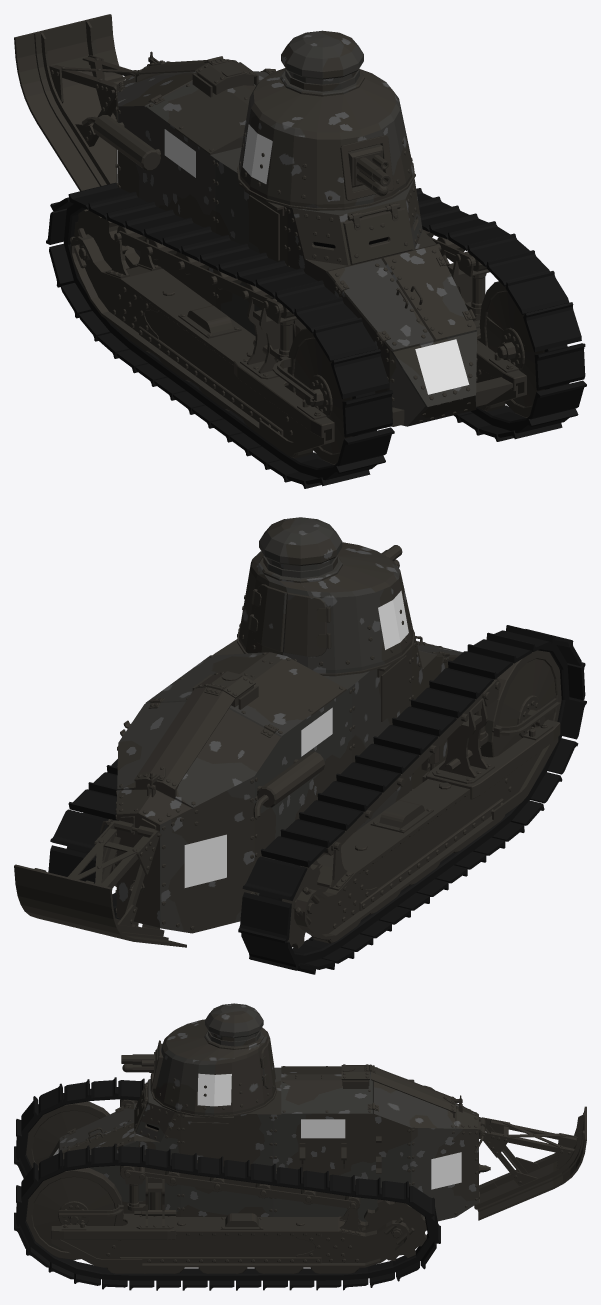
Rendered from Veh_FT-17_01.fbx.
3 views of the same model, one above another, from view 1: azimuth 30°, elevation 25°; view 2: azimuth 150°, elevation 25°; view 3: azimuth 270°, elevation 25° (orthographic). The views are drawn at different scales.
Parts seen in each view (by area): view 1: Veh_FT-17_01_LOD0, Veh_FT-17_Caterpillar_R_LOD0, Veh_FT-17_Tower_LOD0, Veh_FT-17_Caterpillar_L_LOD0, Veh_FT-17_Wheel_L_01_LOD0, Veh_FT-17_Wheel_R_01_LOD0, Veh_FT-17_Decal_01_LOD0, Veh_FT-17_Cannon_LOD0, Veh_FT-17_Wheel_R_11_LOD0, Veh_FT-17_Decal_02_LOD0; view 2: Veh_FT-17_01_LOD0, Veh_FT-17_Caterpillar_R_LOD0, Veh_FT-17_Tower_LOD0, Veh_FT-17_Wheel_R_01_LOD0, Veh_FT-17_Caterpillar_L_LOD0, Veh_FT-17_Decal_01_LOD0, Veh_FT-17_Decal_02_LOD0, Veh_FT-17_Wheel_R_11_LOD0; view 3: Veh_FT-17_01_LOD0, Veh_FT-17_Caterpillar_L_LOD0, Veh_FT-17_Tower_LOD0, Veh_FT-17_Wheel_L_01_LOD0, Veh_FT-17_Caterpillar_R_LOD0, Veh_FT-17_Wheel_R_01_LOD0, Veh_FT-17_Wheel_L_11_LOD0, Veh_FT-17_Decal_01_LOD0, Veh_FT-17_Decal_02_LOD0, Veh_FT-17_Cannon_LOD0.
Boxes of the visible parts, box(x1,y1,x2,y2) form: Veh_FT-17_01_LOD0: box(14, 14, 526, 456); Veh_FT-17_Caterpillar_R_LOD0: box(46, 182, 394, 488); Veh_FT-17_Tower_LOD0: box(239, 30, 413, 208); Veh_FT-17_Caterpillar_L_LOD0: box(416, 188, 586, 441); Veh_FT-17_Wheel_L_01_LOD0: box(479, 281, 544, 417); Veh_FT-17_Wheel_R_01_LOD0: box(287, 328, 352, 464); Veh_FT-17_Decal_01_LOD0: box(117, 129, 469, 394); Veh_FT-17_Cannon_LOD0: box(348, 144, 390, 196); Veh_FT-17_Wheel_R_11_LOD0: box(74, 209, 129, 269); Veh_FT-17_Decal_02_LOD0: box(242, 124, 272, 183); Veh_FT-17_01_LOD0: box(14, 628, 560, 947); Veh_FT-17_Caterpillar_R_LOD0: box(238, 625, 586, 974); Veh_FT-17_Tower_LOD0: box(239, 517, 413, 673); Veh_FT-17_Wheel_R_01_LOD0: box(480, 650, 561, 757); Veh_FT-17_Caterpillar_L_LOD0: box(48, 634, 237, 919); Veh_FT-17_Decal_01_LOD0: box(184, 707, 332, 887); Veh_FT-17_Decal_02_LOD0: box(378, 590, 408, 649); Veh_FT-17_Wheel_R_11_LOD0: box(282, 864, 321, 948); Veh_FT-17_01_LOD0: box(49, 1064, 586, 1273); Veh_FT-17_Caterpillar_L_LOD0: box(14, 1143, 440, 1290); Veh_FT-17_Tower_LOD0: box(150, 1003, 275, 1115); Veh_FT-17_Wheel_L_01_LOD0: box(26, 1167, 123, 1259); Veh_FT-17_Caterpillar_R_LOD0: box(14, 1077, 146, 1178); Veh_FT-17_Wheel_R_01_LOD0: box(26, 1101, 109, 1170); Veh_FT-17_Wheel_L_11_LOD0: box(362, 1199, 426, 1260); Veh_FT-17_Decal_01_LOD0: box(53, 1119, 461, 1189); Veh_FT-17_Decal_02_LOD0: box(197, 1073, 231, 1106); Veh_FT-17_Cannon_LOD0: box(121, 1048, 158, 1074).
Size of what is drawn, in the model's own units: 164 by 217 by 460.
